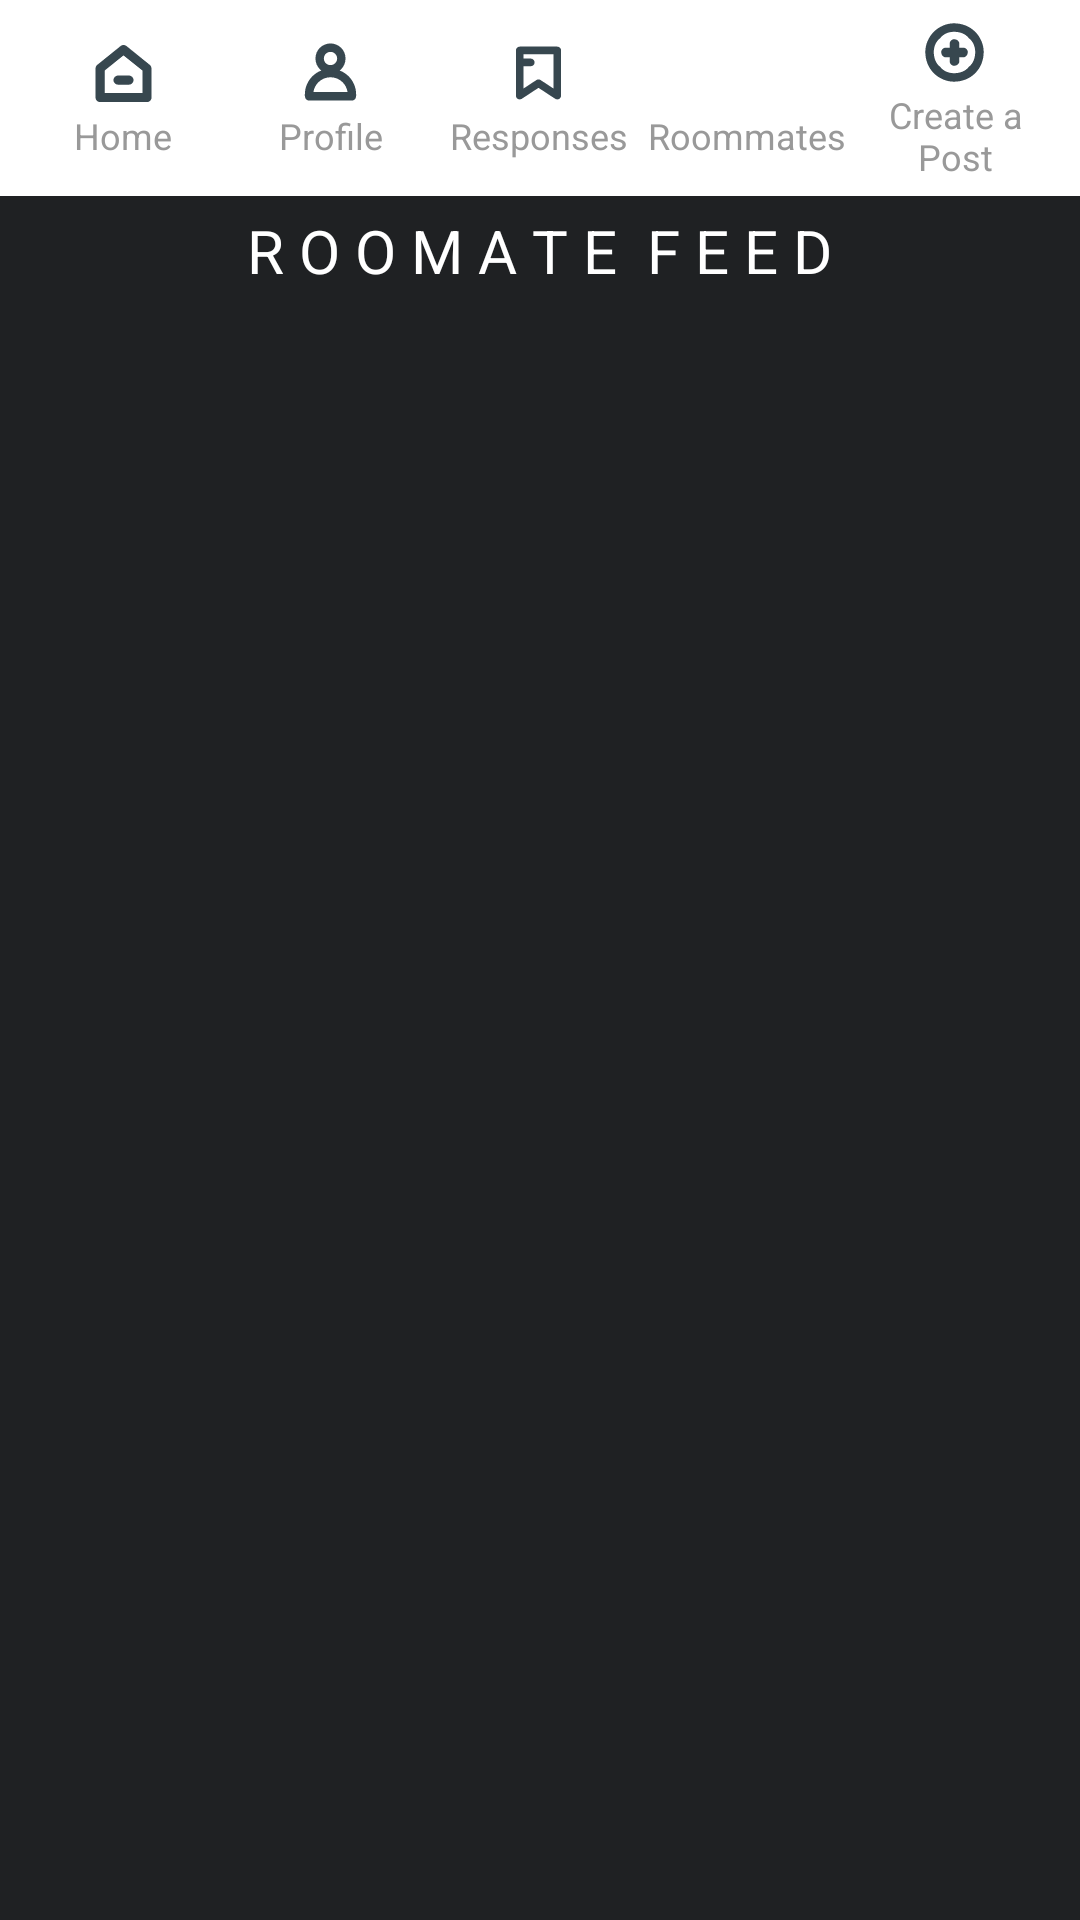

Named icons in this screenshot (1080w x 1920h) and their centers, (x=x, y=y):
bookmark border: (x=538, y=73)
person: (x=330, y=72)
plus: (x=954, y=52)
